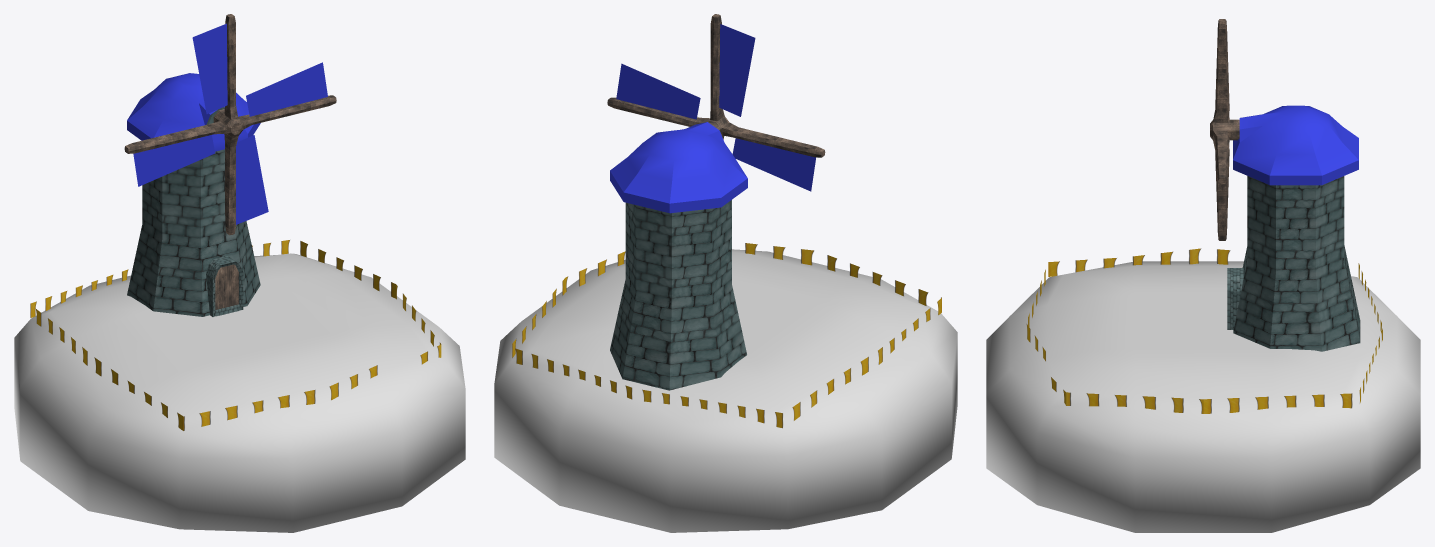
The model's file is Amerulf_Farm.glb.
3 views of the same model, side by side, from view 1: azimuth 30°, elevation 25°; view 2: azimuth 150°, elevation 25°; view 3: azimuth 270°, elevation 25° (orthographic). The views are drawn at different scales.
Parts seen in each view (by area): view 1: Cube.004, Cube.001, Cube.005, Cube.003; view 2: Cube.004, Cube.001, Cube.005, Cube.003; view 3: Cube.004, Cube.001, Cube.003, Cube.005.
Boxes of the visible parts, box(x1,y1,x2,y2) form: Cube.004: box(14, 253, 465, 532); Cube.001: box(127, 73, 260, 316); Cube.005: box(124, 14, 336, 235); Cube.003: box(30, 240, 441, 430); Cube.004: box(494, 249, 957, 532); Cube.001: box(610, 122, 747, 390); Cube.005: box(607, 14, 825, 191); Cube.003: box(512, 243, 941, 428); Cube.004: box(986, 261, 1420, 532); Cube.001: box(1227, 105, 1360, 351); Cube.003: box(1026, 248, 1382, 413); Cube.005: box(1210, 19, 1239, 240).
Size of the model in its own units: 2.53 by 2.72 by 2.55.
5 materials, 3 textured.
